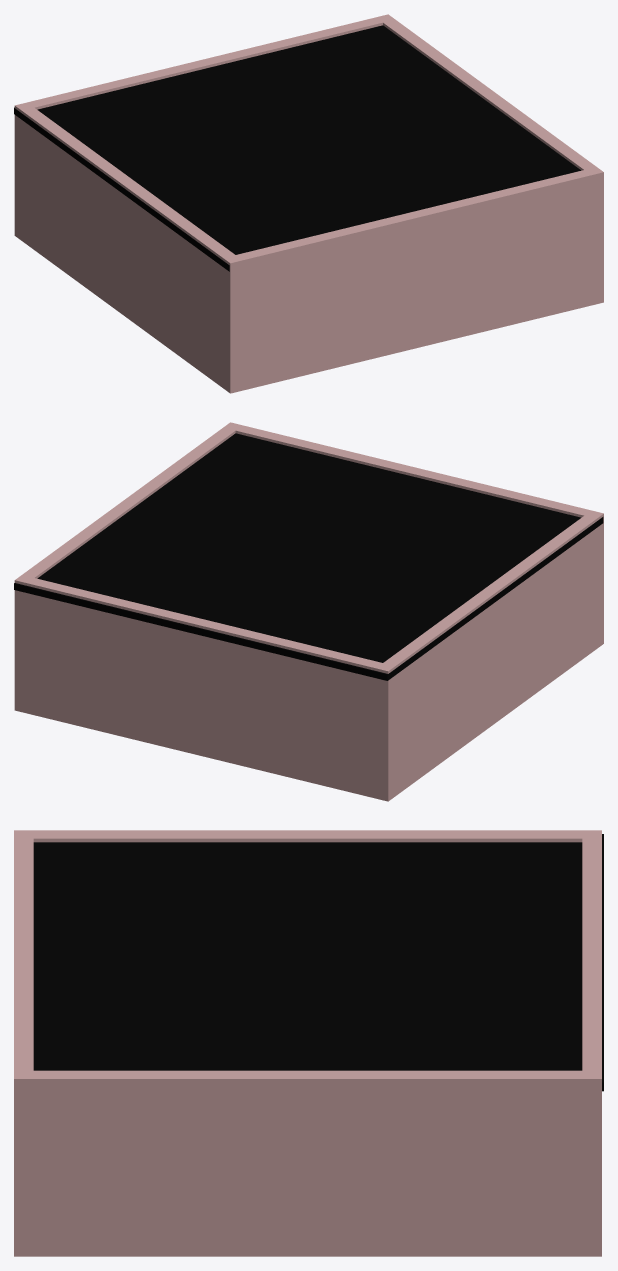
Rendered from InformaticsSeminar.obj.
3 views of the same model, one above another, from view 1: azimuth 30°, elevation 25°; view 2: azimuth 150°, elevation 25°; view 3: azimuth 270°, elevation 25° (orthographic). The views are drawn at different scales.
Visible parts, largest first — view 1: ケース, 液晶; view 2: ケース, 液晶; view 3: ケース, 液晶.
Boxes of the visible parts, box(x1,y1,x2,y2) form: ケース: box(14, 14, 603, 393); 液晶: box(14, 25, 580, 271); ケース: box(14, 422, 603, 801); 液晶: box(14, 433, 603, 680); ケース: box(14, 830, 601, 1256); 液晶: box(33, 834, 603, 1091).
Size of the model in its own units: 6 by 2 by 6.02.
